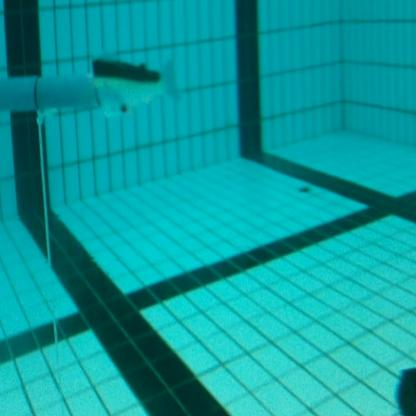tail: (88, 52, 185, 121)
